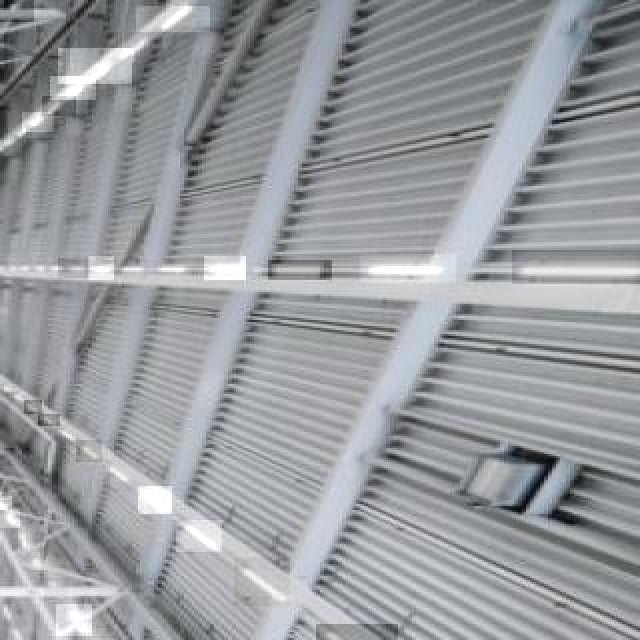fluorescent tube: (520, 232, 640, 296), (225, 558, 302, 613), (360, 251, 449, 293), (144, 0, 198, 48), (82, 45, 154, 80), (173, 520, 240, 555), (251, 251, 351, 274), (306, 630, 416, 640), (84, 636, 128, 640)
